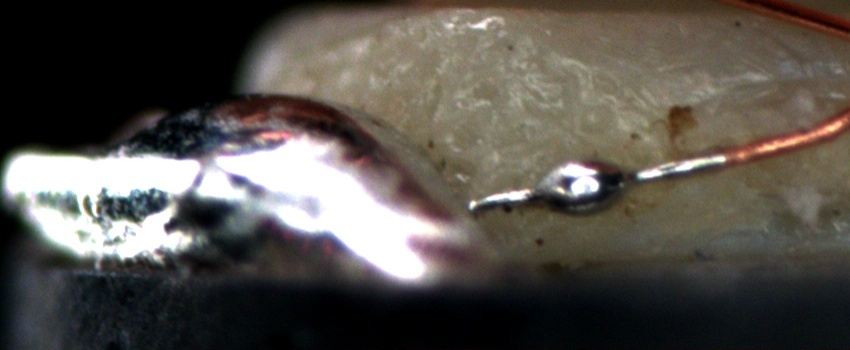DL: (594, 58, 850, 89)
TB: (539, 153, 630, 216)
TS: (468, 151, 725, 211)
TTCW: (460, 139, 771, 215)
